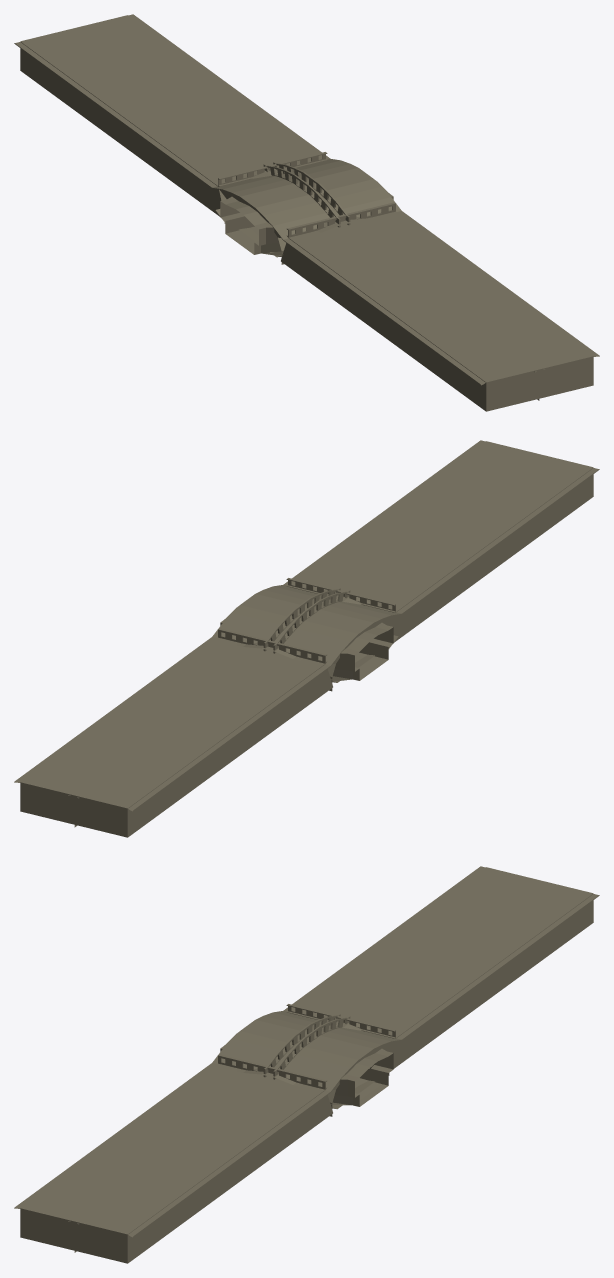
File: TerrainSewer.fbx
3 renders of one model, top to bottom at view 1: azimuth 30°, elevation 25°; view 2: azimuth 150°, elevation 25°; view 3: azimuth 330°, elevation 25°, orthographic.
Parts seen in each view (by area): view 1: TerrainSegSewerExit, TerrainSegSewerEntrance, TerrainSegSewerStraight; view 2: TerrainSegSewerExit, TerrainSegSewerEntrance, TerrainSegSewerStraight; view 3: TerrainSegSewerEntrance, TerrainSegSewerExit, TerrainSegSewerTRight, TerrainSegSewerTLeft, TerrainSegSewerStraight.
Part boxes in pixels (x1=…): TerrainSegSewerExit: x1=20, y1=14, x2=599, y2=411; TerrainSegSewerEntrance: x1=14, y1=15, x2=593, y2=398; TerrainSegSewerStraight: x1=220, y1=182, x2=393, y2=254; TerrainSegSewerExit: x1=14, y1=440, x2=593, y2=837; TerrainSegSewerEntrance: x1=20, y1=441, x2=599, y2=824; TerrainSegSewerStraight: x1=220, y1=608, x2=393, y2=680; TerrainSegSewerEntrance: x1=14, y1=866, x2=593, y2=1263; TerrainSegSewerExit: x1=20, y1=867, x2=599, y2=1252; TerrainSegSewerTRight: x1=313, y1=1014, x2=390, y2=1106; TerrainSegSewerTLeft: x1=236, y1=1062, x2=392, y2=1106; TerrainSegSewerStraight: x1=220, y1=1033, x2=393, y2=1106.
Size of the model in its own units: 2000 by 743 by 12034.
